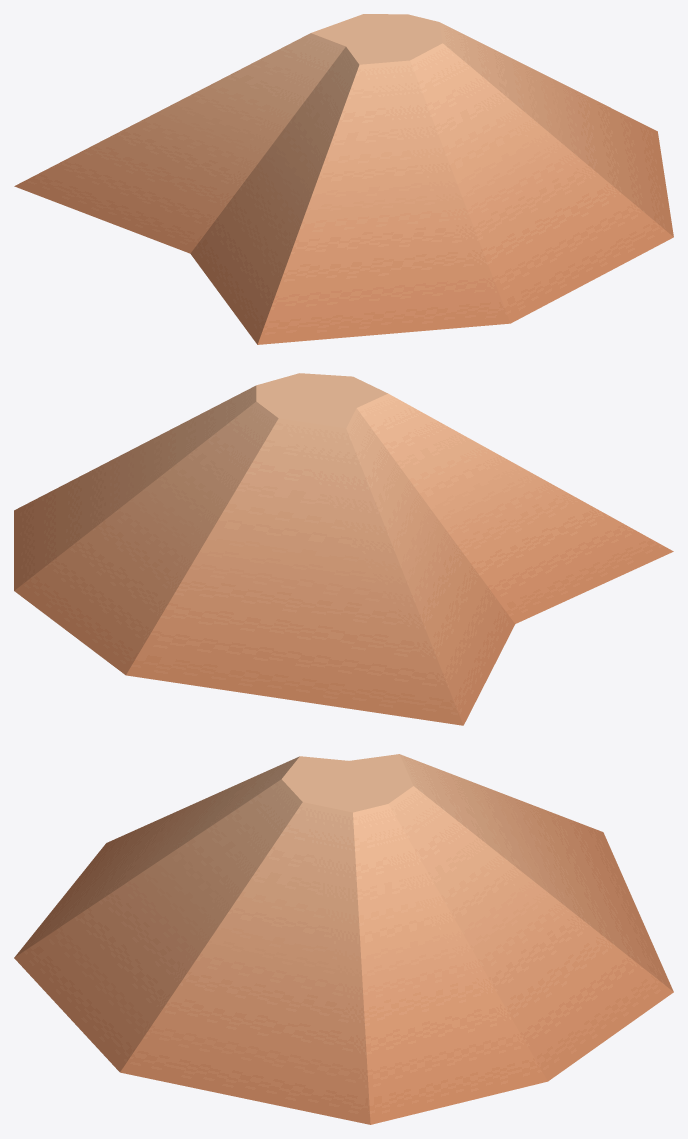
The model's file is sand-1.glb.
The picture shows the model from 3 angles, top to bottom: view 1: azimuth 30°, elevation 25°; view 2: azimuth 150°, elevation 25°; view 3: azimuth 270°, elevation 25°; orthographic projection. The views are drawn at different scales.
Visible parts, largest first — view 1: Cube; view 2: Cube; view 3: Cube.
Boxes of the visible parts, x1,y1,x2,y2 form: Cube: [14, 14, 673, 344]; Cube: [14, 373, 673, 725]; Cube: [14, 754, 673, 1124].
Size of the model in its own units: 18.22 by 5.5 by 17.36.
1 material, 1 textured.
